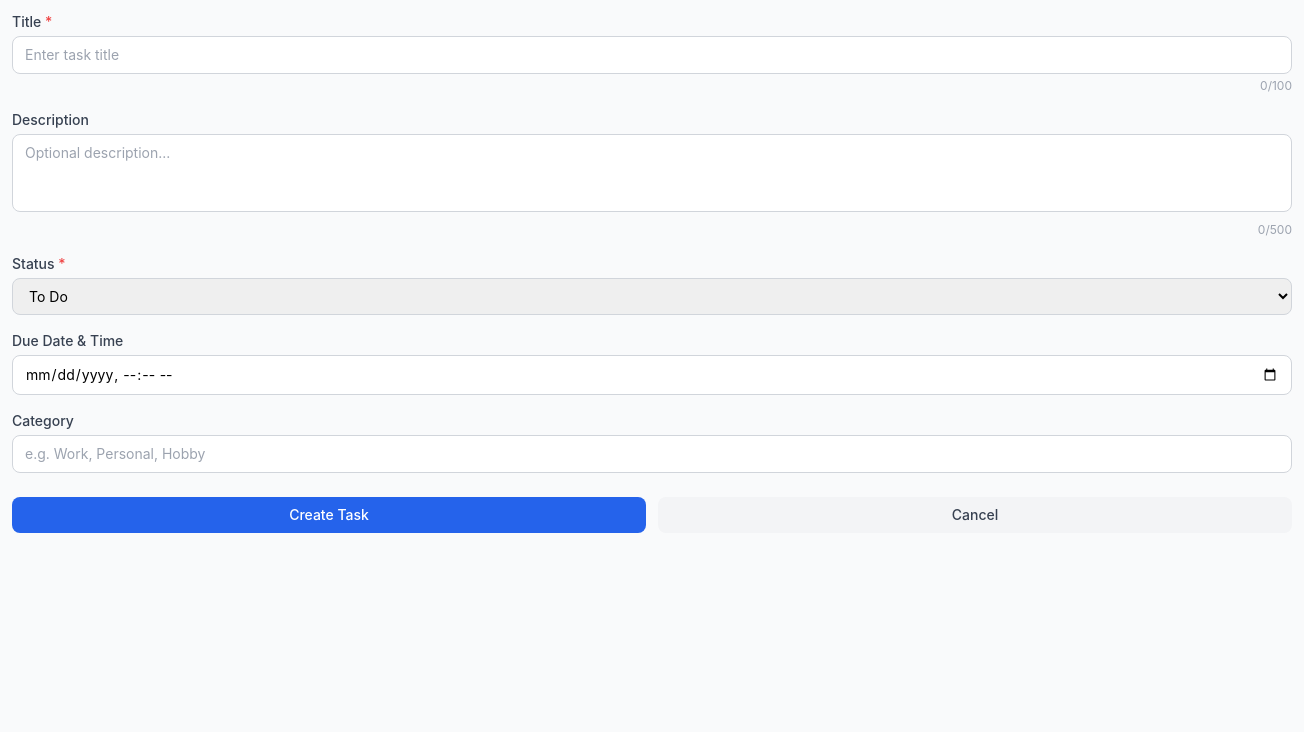
it: TaskForm › submission › shows API error message when submission fails
Type "Test" into the field labelled "Title *".
click(652, 55); type("Test")  # box x1=12 y1=36 x2=1292 y2=74
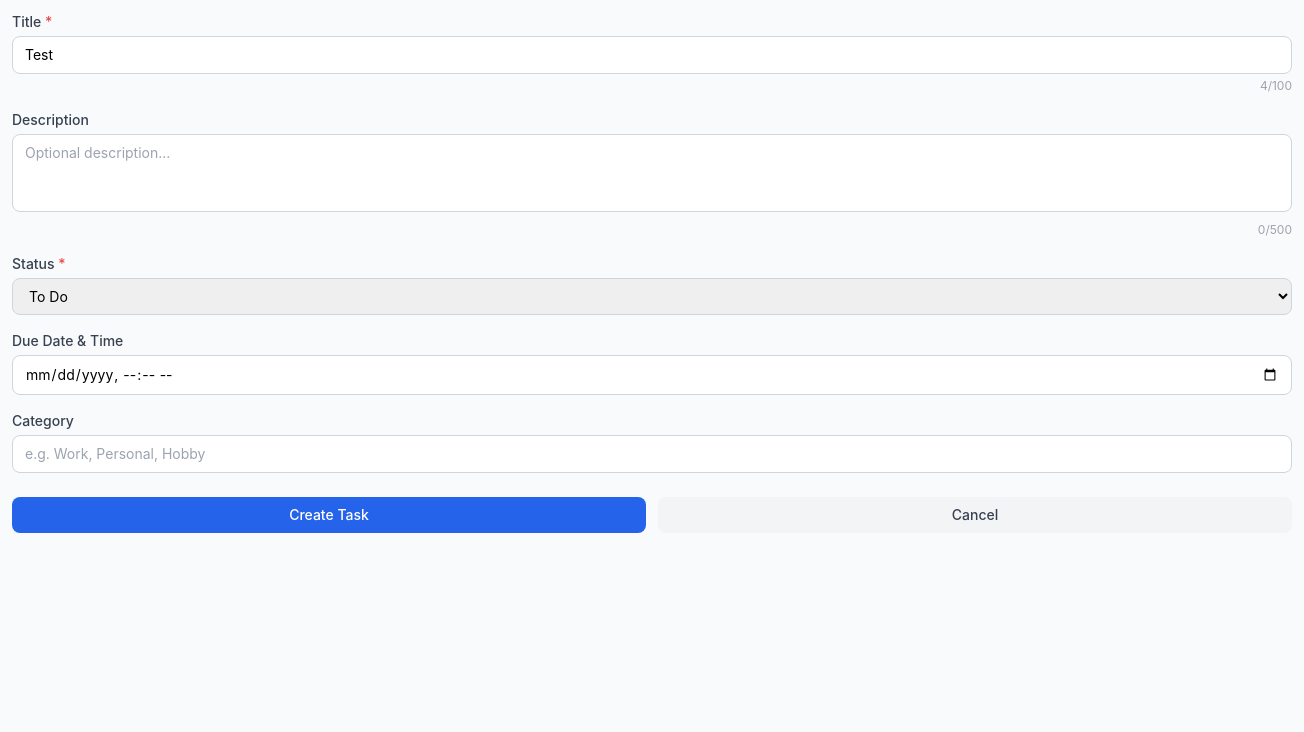
Click the button "Create Task".
click(329, 515)  # box x1=12 y1=497 x2=646 y2=533
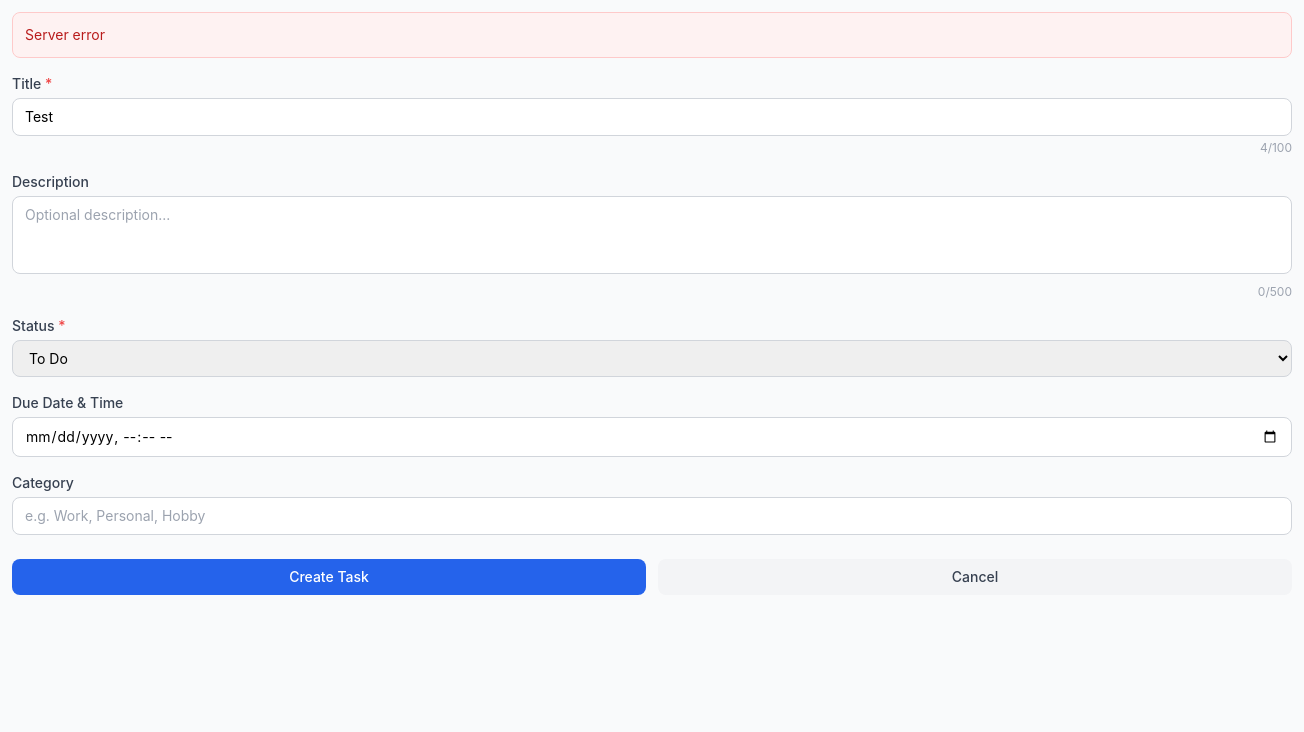
Now the message reads "Server error", box x1=25 y1=26 x2=105 y2=43
